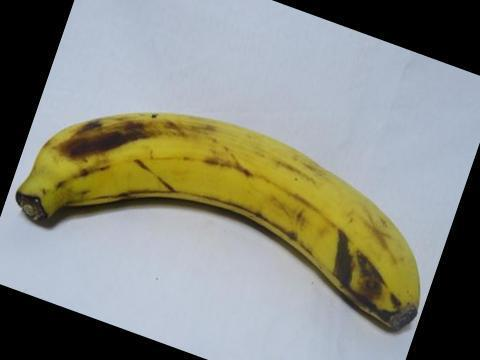overripe: (8, 101, 427, 334)
